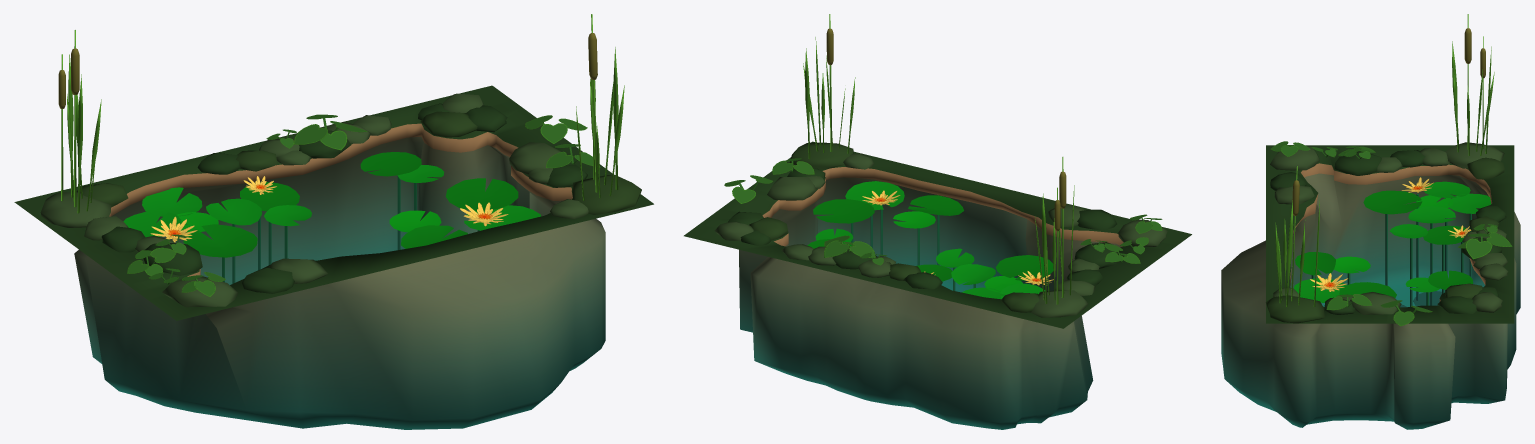
File: Pond.glb
The picture shows the model from 3 angles, left to right: view 1: azimuth 30°, elevation 25°; view 2: azimuth 150°, elevation 25°; view 3: azimuth 270°, elevation 25°; orthographic projection. The views are drawn at different scales.
Parts seen in each view (by area): view 1: Pond; view 2: Pond; view 3: Pond.
Part boxes in pixels (x1,y1,x2,y2): Pond: (14, 14, 653, 429); Pond: (684, 14, 1191, 429); Pond: (1221, 14, 1520, 429).
Size of the model in its own units: 12.31 by 8.07 by 8.3.
2 materials, 2 textured.
